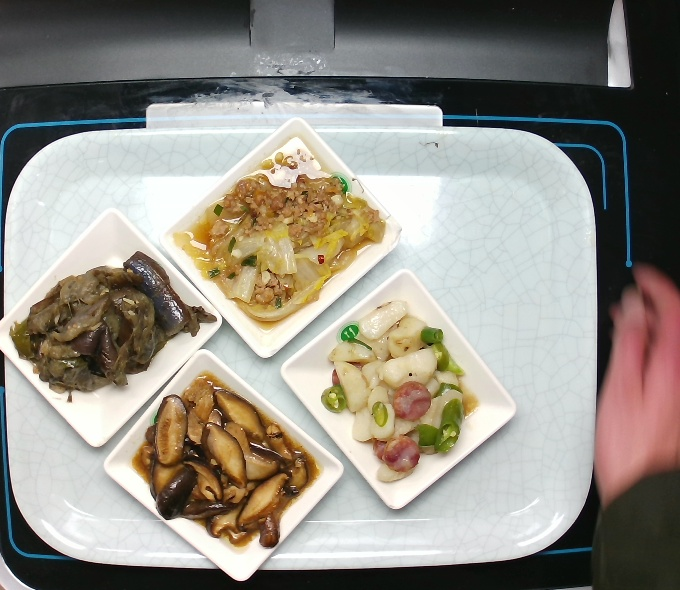wcq-MaTiGuo: (303, 292, 478, 488)
wcq-MoGu: (132, 370, 323, 555)
wcq-QieZi: (6, 250, 216, 408)
wcq-RouMoBaiCai: (181, 134, 396, 336)
